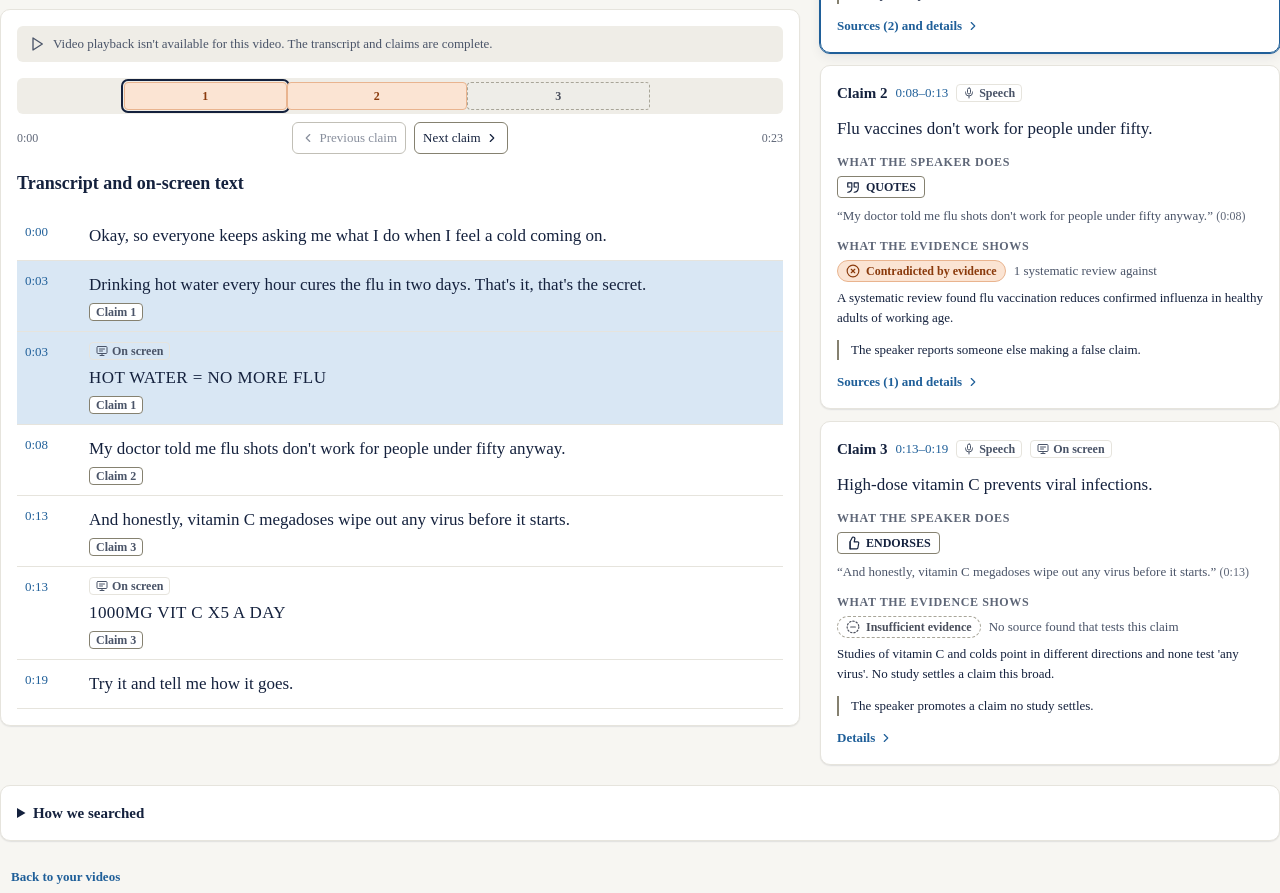
Scenario: ClaimDrawer › says plainly when no source tests a claim
The image size is (1280, 893).
(page scrolled)
Click the button "Details". click: (865, 738)
box: [837,728,893,748]
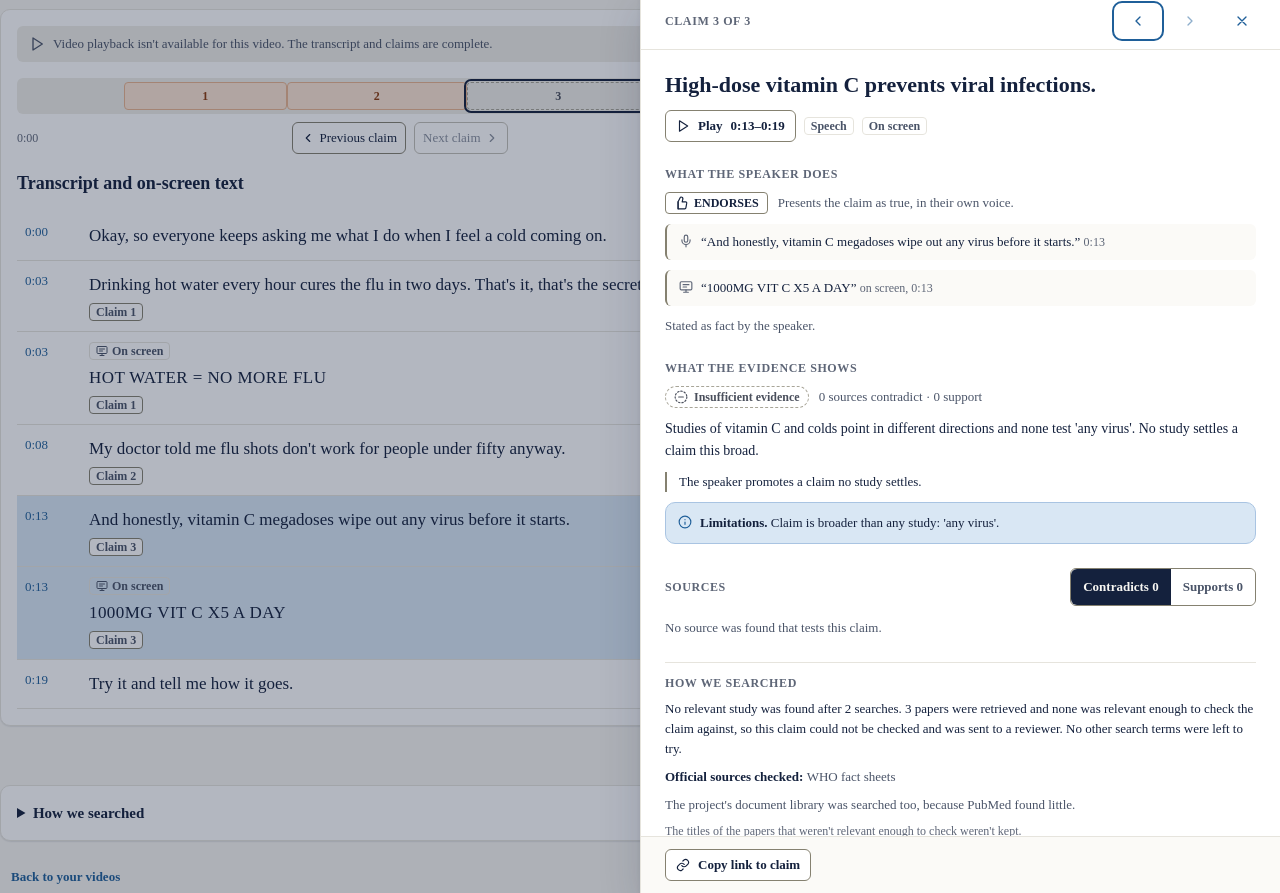
expect the text "No source was found that tests this claim." is shown: met, box [665,620,882,635]
expect the text "Limitations. Claim is broader than any study: 'any virus'." is shown: met, box [700,513,999,533]
